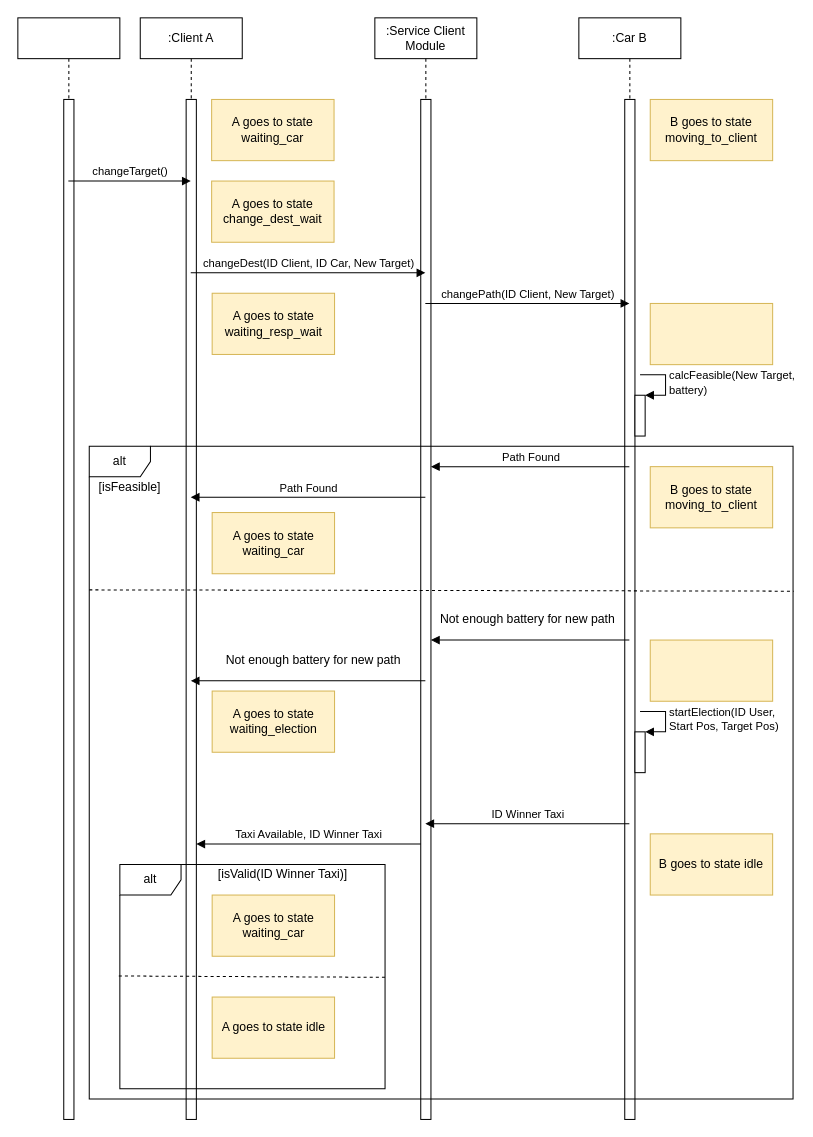
This 813x1137 diagram has some shape labels left out. The box of each missing label's shape, as (x1, y1, x2, y2) in pixels:
:Sistem S: (17, 17, 120, 1119)
B goes to state se_fup: (649, 639, 773, 701)
B goes to state ucr_mov_client: (649, 302, 773, 365)
